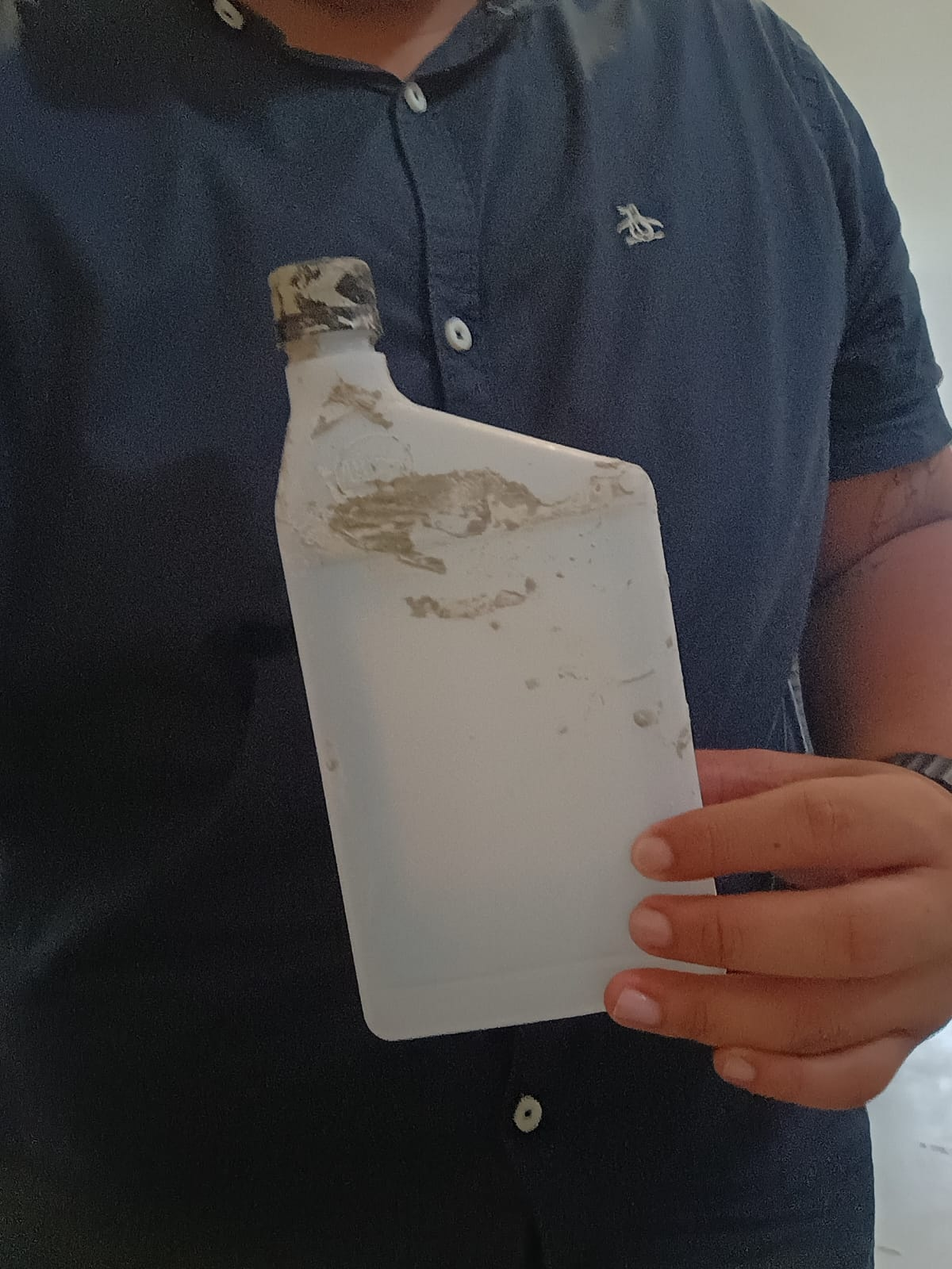Plastico: (274, 257, 724, 1042)
